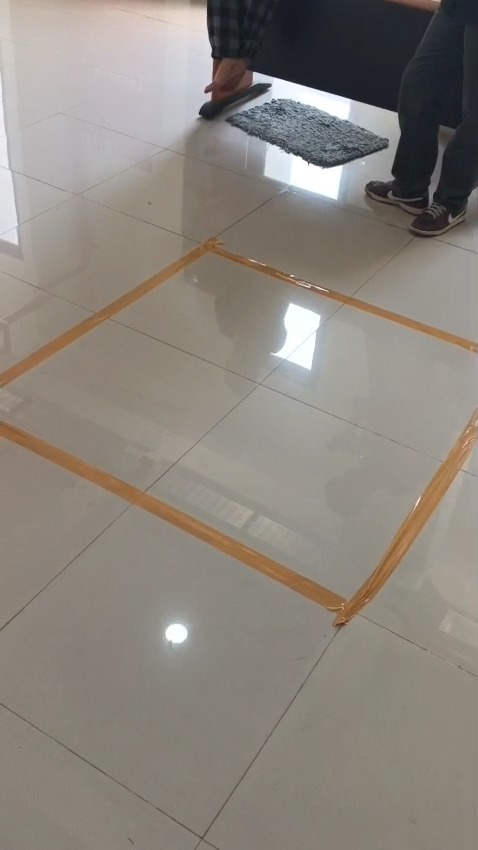floor marking: (0, 412, 477, 625), (0, 239, 477, 388)
